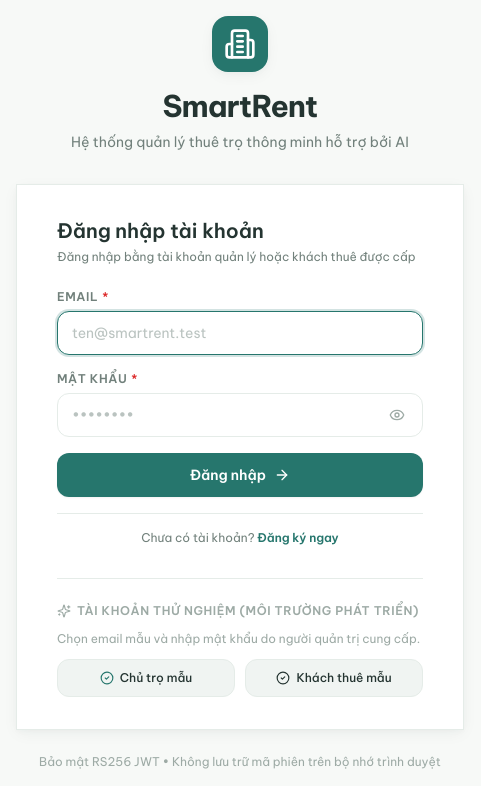
LoginPage › prefills only the synthetic email and clears passwords when switching accounts
The image size is (481, 786).
Click the button "Chủ trọ mẫu" at (146, 678), box [57,659,235,697]
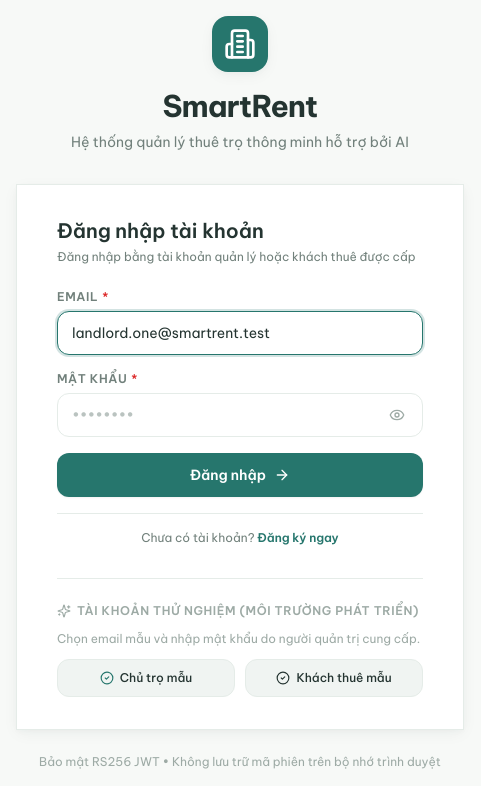
Check: the field labelled "Email*" holds "landlord.one@smartrent.test", box [57,311,423,355]
Type "synthetic-unit-fixture" into the password field labelled "Mật khẩu*" at (240, 415), box [57,393,423,437]
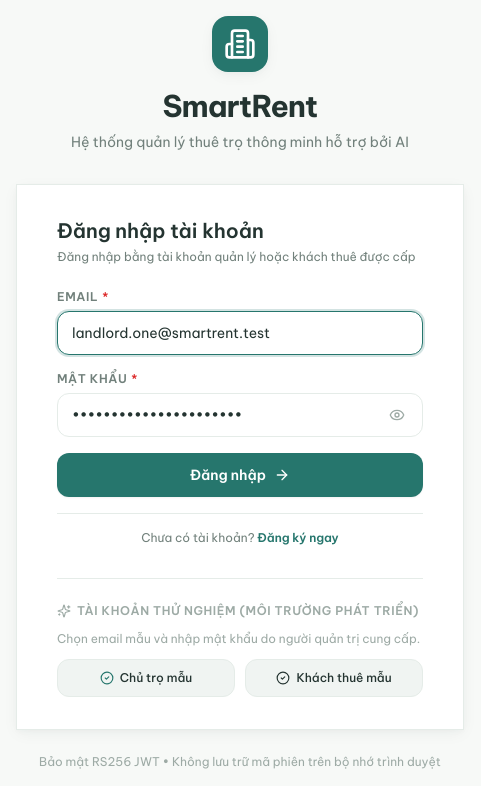
Click the button "Khách thuê mẫu" at (334, 678), box [245,659,423,697]
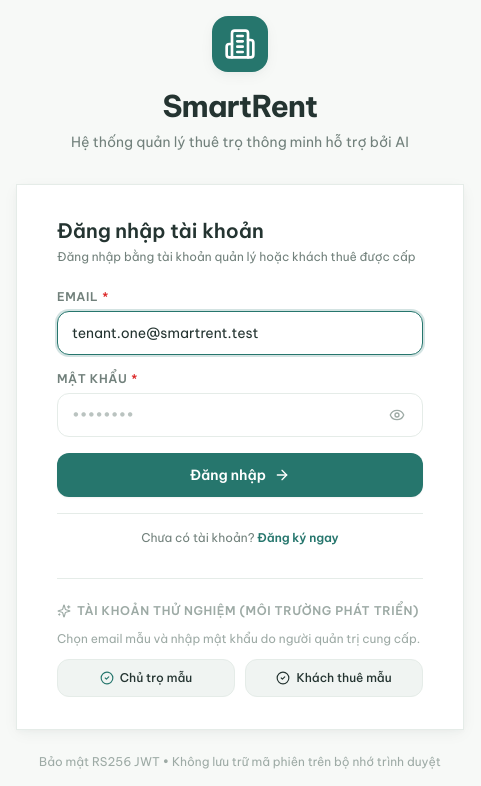
Check: the field labelled "Email*" holds "tenant.one@smartrent.test", box [57,311,423,355]
Check: the password field labelled "Mật khẩu*" is empty, box [57,393,423,437]
